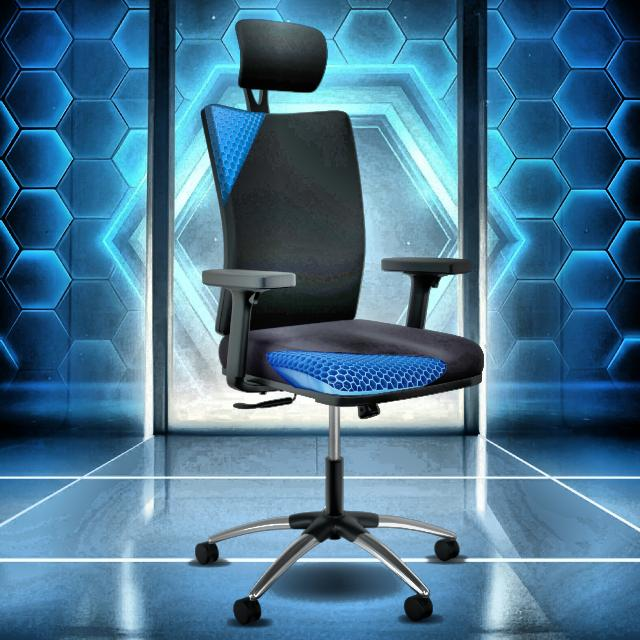cadeira: (190, 13, 490, 628)
